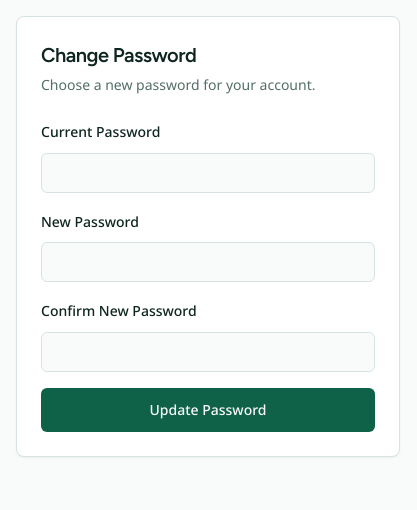
Scenario: ChangePassword › rejects a password shorter than 6 characters
Type "P@ssword1234" into the password field labelled "Current Password" at (208, 173), box [41,153,375,193]
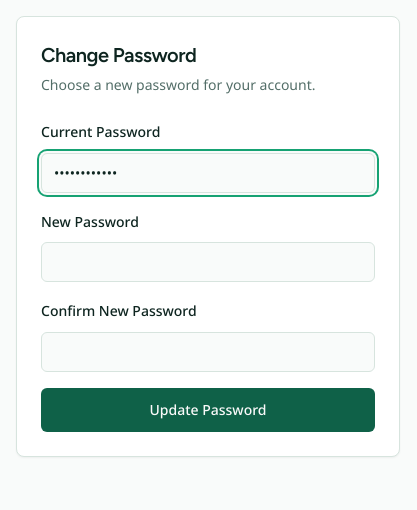
Type "abc" into the password field labelled "New Password" at (208, 262), box [41,242,375,282]
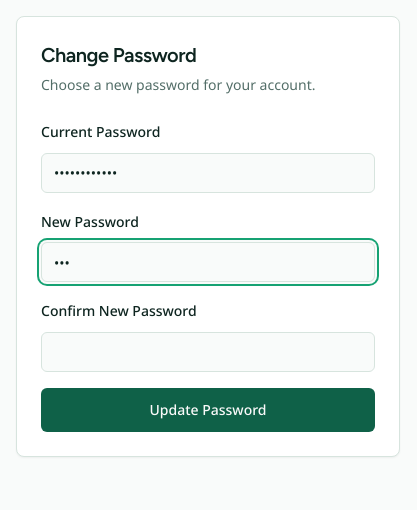
Type "abc" into the password field labelled "Confirm New Password" at (208, 352), box [41,332,375,372]
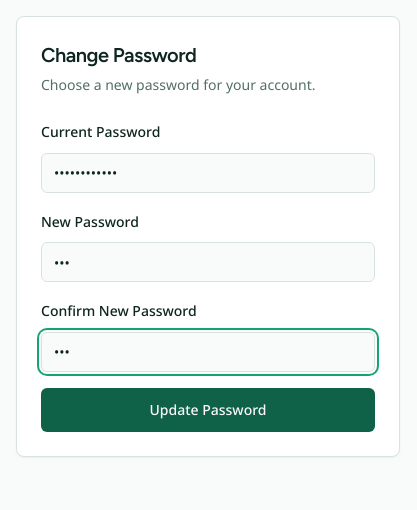
Click the button "Update Password" at (208, 410), box [41,388,375,432]
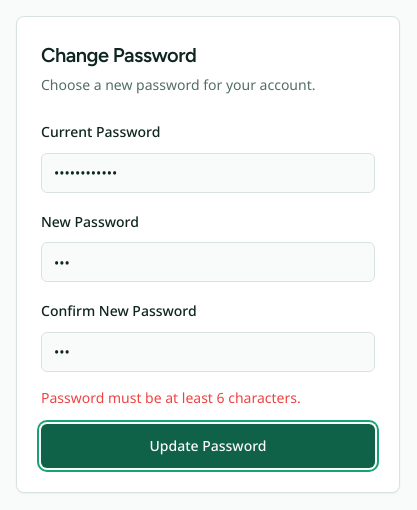
Expected: the text "Password must be at least 6 characters." is shown, [41,388,301,407]
